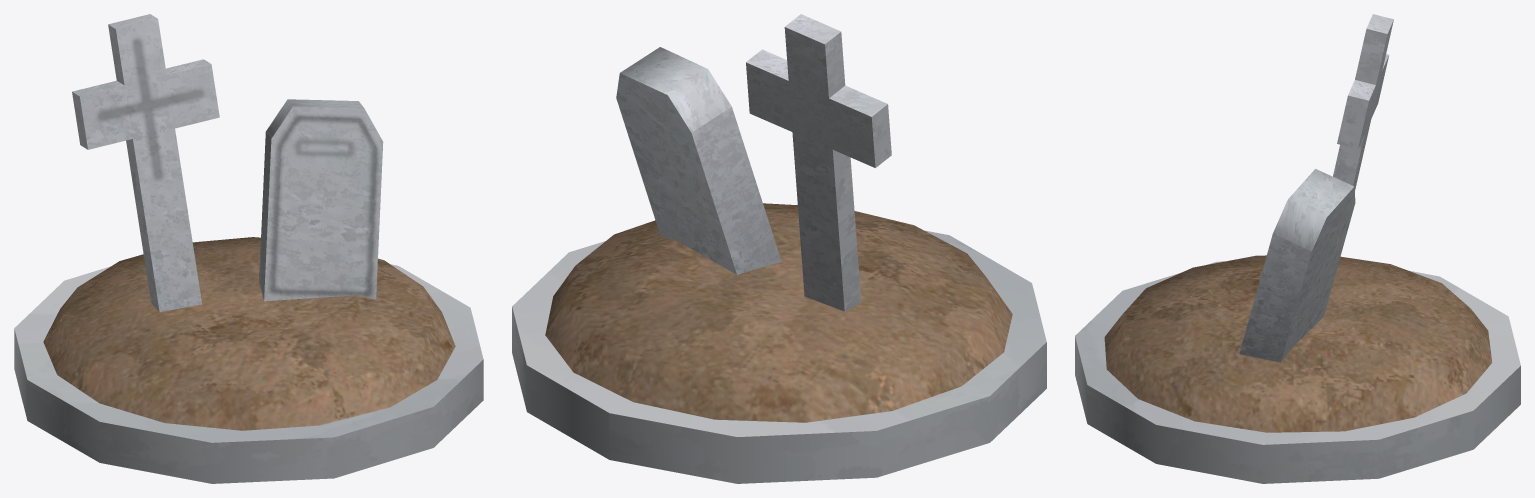
File: Cemetery.fbx
The picture shows the model from 3 angles, left to right: view 1: azimuth 30°, elevation 25°; view 2: azimuth 150°, elevation 25°; view 3: azimuth 270°, elevation 25°; orthographic projection. The views are drawn at different scales.
Visible parts, largest first — view 1: polymsh; view 2: polymsh; view 3: polymsh.
Boxes of the visible parts, box(x1,y1,x2,y2) form: polymsh: box(14, 14, 483, 483); polymsh: box(512, 14, 1046, 483); polymsh: box(1075, 14, 1520, 483).
Size of the model in its own units: 6.78 by 5.62 by 6.78.
1 material, 1 textured.
